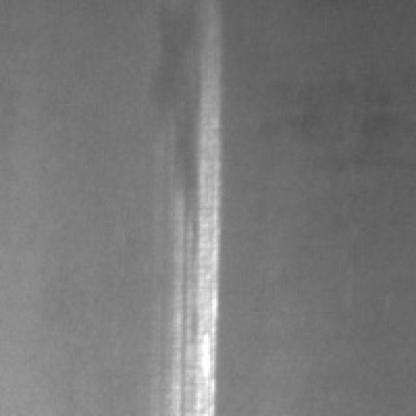scratches: (164, 64, 221, 412)
